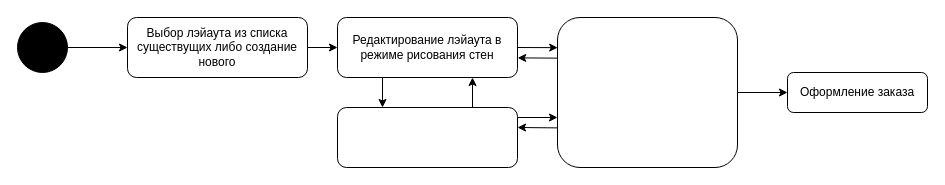
The diagram is 945 pixels wide and 185 high, and some of its shapes have lost their labels. Here are the shapes that lost their labels. From the top down, the centre of each, then its label:
At (647,92): "Рендер получающейся конфигурации в 3D".
At (427,137): "Редактирование лэйаута в режиме размещения объектов".
